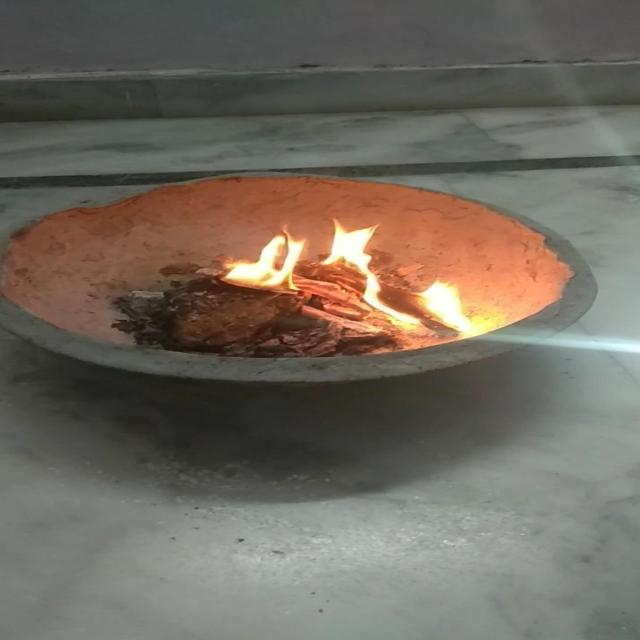smoke: (316, 214, 420, 324), (211, 221, 305, 292), (419, 280, 483, 336)
